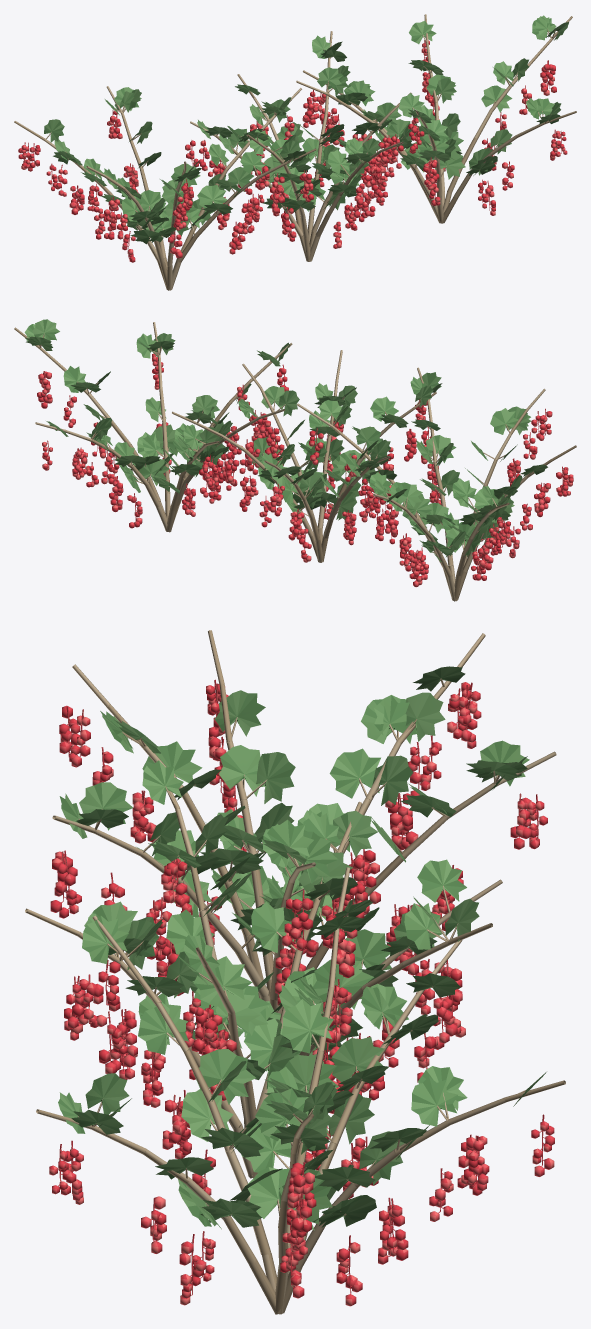
Rendered from groseillier_rouge_mur.glb.
The picture shows the model from 3 angles, top to bottom: view 1: azimuth 30°, elevation 25°; view 2: azimuth 150°, elevation 25°; view 3: azimuth 270°, elevation 25°; orthographic projection. The views are drawn at different scales.
Visible parts, largest first — view 1: Groseillier_Feuilles, Groseillier_Fruits, Groseillier_Tiges; view 2: Groseillier_Feuilles, Groseillier_Fruits, Groseillier_Tiges; view 3: Groseillier_Feuilles, Groseillier_Fruits, Groseillier_Tiges.
Part boxes in pixels (bbox=[...]): Groseillier_Feuilles: bbox=[44, 15, 568, 244]; Groseillier_Fruits: bbox=[18, 40, 567, 262]; Groseillier_Tiges: bbox=[14, 14, 576, 290]; Groseillier_Feuilles: bbox=[24, 319, 547, 562]; Groseillier_Fruits: bbox=[37, 353, 573, 587]; Groseillier_Tiges: bbox=[14, 322, 576, 601]; Groseillier_Feuilles: bbox=[58, 666, 546, 1230]; Groseillier_Fruits: bbox=[49, 679, 554, 1306]; Groseillier_Tiges: bbox=[25, 630, 565, 1314].
Size of the model in its own units: 2.6 by 0.8397 by 1.18.
